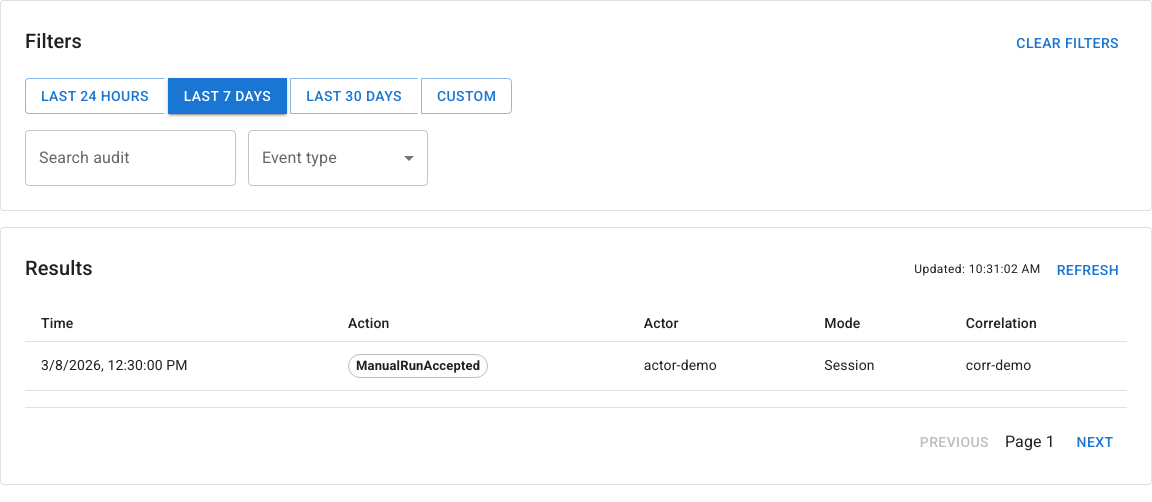
it: groups audit filters and results, and Clear restores the default query
Check: the button "Refresh" is shown, box [1049,252,1127,288]
Type "actor" into the field labelled "Search audit". click: (130, 158)
box: [25,130,236,186]
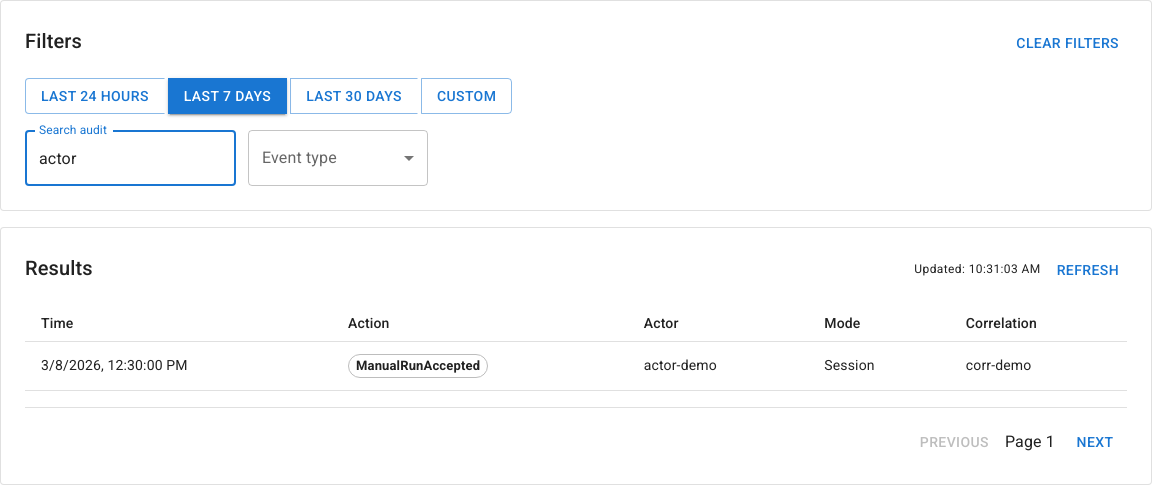
Click the button "Last 30 days". click: click(354, 96)
box: [290,78,418,114]
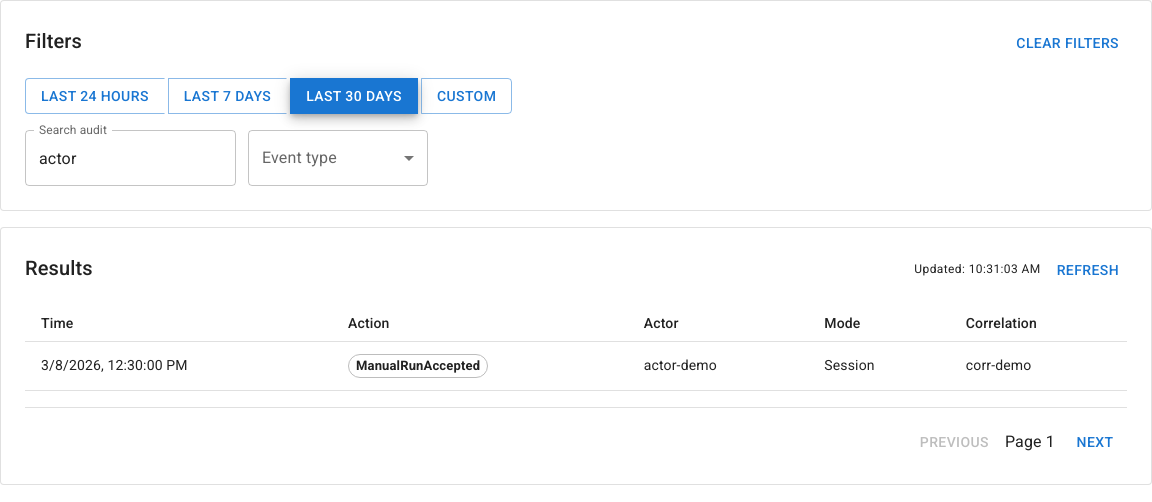
Click the button "Clear filters". click: click(1068, 43)
box: [1008,25,1127,62]
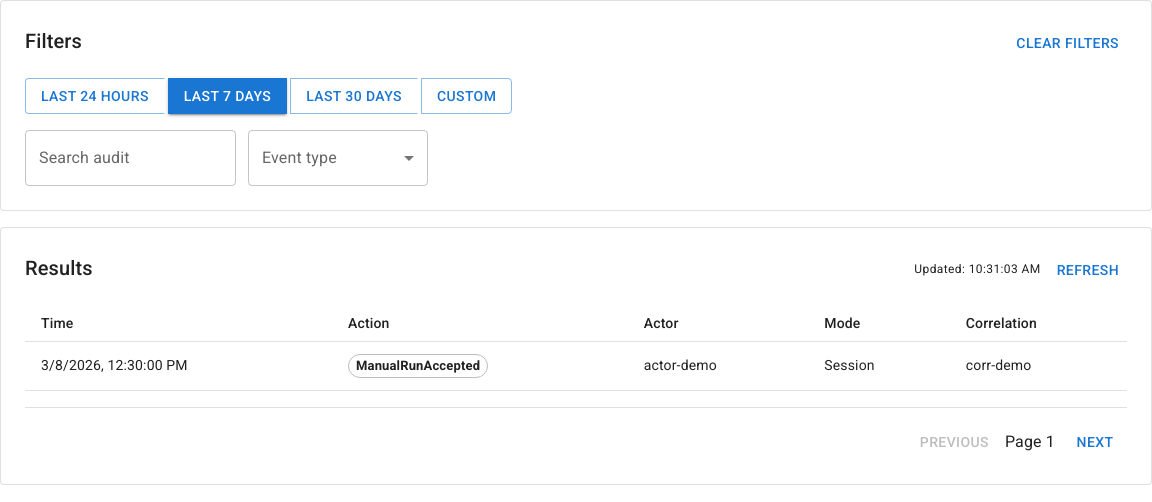
Check: the field labelled "Search audit" is empty, box [25,130,236,186]
